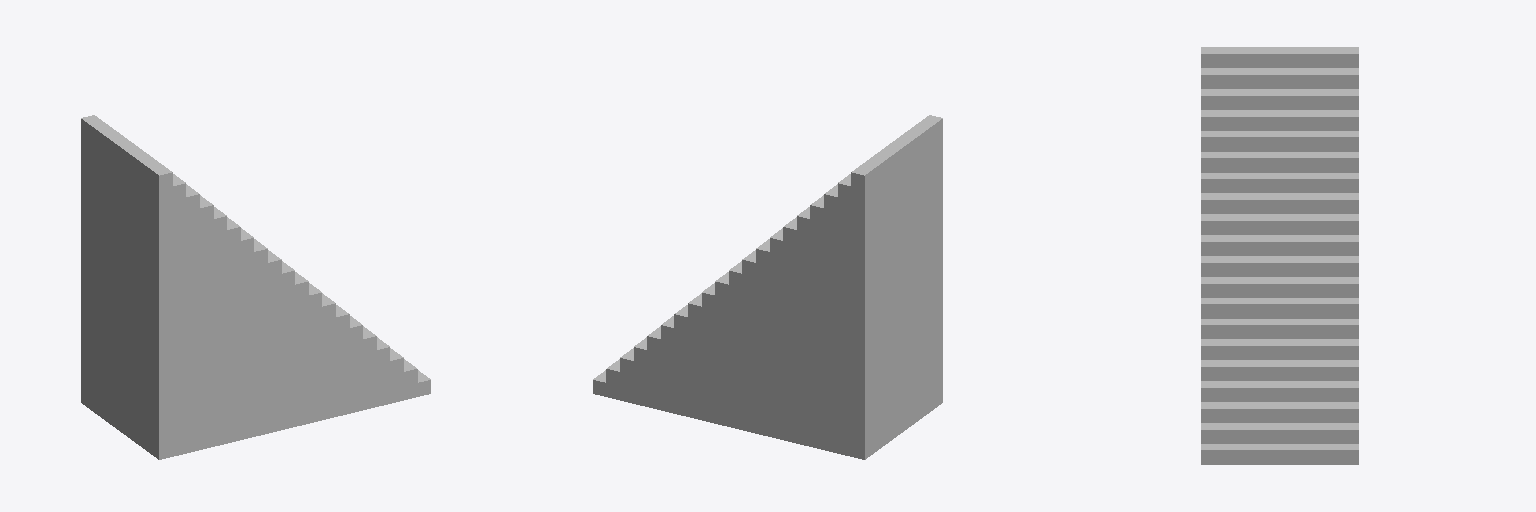
File: BigStairs1.obj
The picture shows the model from 3 angles: view 1: azimuth 30°, elevation 25°; view 2: azimuth 150°, elevation 25°; view 3: azimuth 270°, elevation 25°; orthographic projection.
Parts seen in each view (by area): view 1: Mesh1 Group1 Model; view 2: Mesh1 Group1 Model; view 3: Mesh1 Group1 Model.
Part boxes in pixels (bbox=[...]): Mesh1 Group1 Model: bbox=[81, 115, 430, 459]; Mesh1 Group1 Model: bbox=[593, 115, 942, 459]; Mesh1 Group1 Model: bbox=[1201, 47, 1358, 464].
Bounding box in the file's own units: 1 × 1 × 0.5.